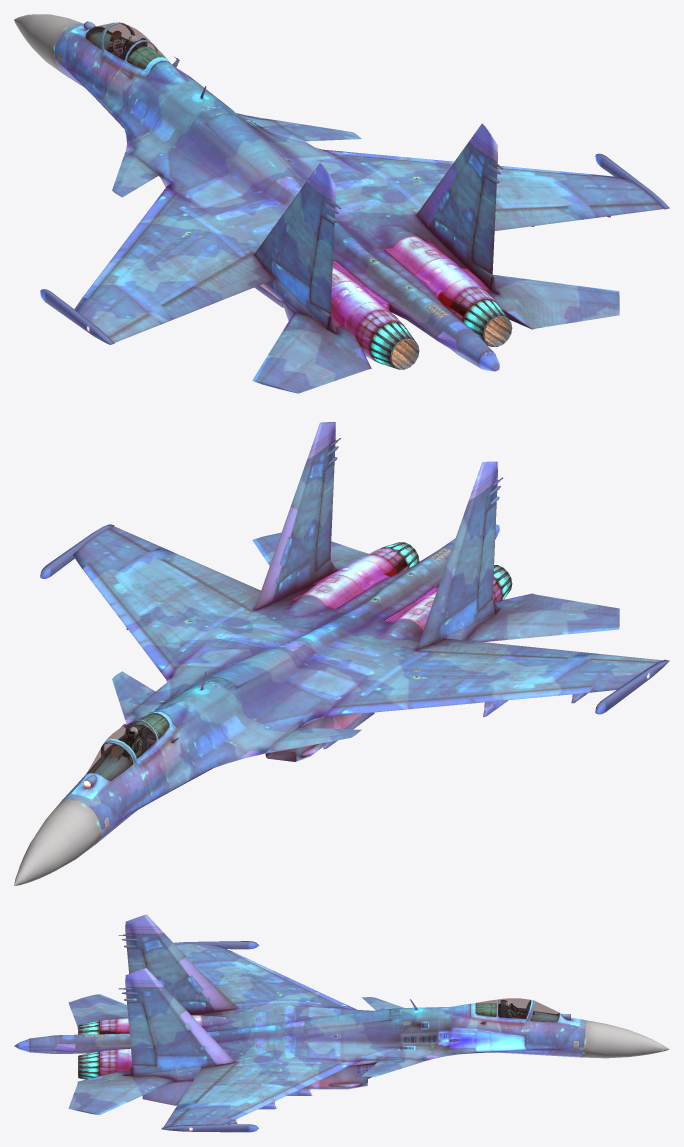
The picture shows the model from 3 angles, top to bottom: view 1: azimuth 30°, elevation 25°; view 2: azimuth 150°, elevation 25°; view 3: azimuth 270°, elevation 25°; orthographic projection. The views are drawn at different scales.
Visible parts, largest first — view 1: SU-37_LOD0, SU-37_ElevatorL01, SU-37_ElevatorR01, SU-37_FlapL01, SU-37_BrakeL01, SU-37_Glass01, SU-37_EngineL01, SU-37_RudderR01, SU-37_RudderL01, SU-37_VoletL01, SU-37_EngineR01, SU-37_FlapR01 (+6 smaller); view 2: SU-37_LOD0, SU-37_ElevatorL01, SU-37_VoletL01, SU-37_Glass01, SU-37_VoletR01, SU-37_FlapR01, SU-37_FlapL01, SU-37_BrakeL01, SU-37_RudderL01, SU-37_RudderR01, SU-37_CanardL01, SU-37_Canopy01 (+2 smaller); view 3: SU-37_LOD0, SU-37_ElevatorR01, SU-37_RudderR01, SU-37_Glass01, SU-37_ElevatorL01, SU-37_VoletR01, SU-37_FlapR01, SU-37_BrakeL01, SU-37_Canopy01, SU-37_VoletL01, SU-37_CanardR01, SU-37_EngineR01 (+1 smaller).
Part boxes in pixels (bbox=[...]): SU-37_LOD0: bbox=[14, 14, 669, 371]; SU-37_ElevatorL01: bbox=[252, 312, 371, 393]; SU-37_ElevatorR01: bbox=[486, 274, 619, 329]; SU-37_FlapL01: bbox=[161, 253, 275, 318]; SU-37_BrakeL01: bbox=[201, 108, 294, 182]; SU-37_Glass01: bbox=[85, 23, 167, 69]; SU-37_EngineL01: bbox=[369, 321, 419, 369]; SU-37_RudderR01: bbox=[472, 175, 496, 274]; SU-37_RudderL01: bbox=[310, 215, 334, 314]; SU-37_VoletL01: bbox=[82, 188, 179, 299]; SU-37_EngineR01: bbox=[462, 299, 512, 346]; SU-37_FlapR01: bbox=[416, 206, 581, 230]; SU-37_LOD0: bbox=[14, 422, 669, 885]; SU-37_ElevatorL01: bbox=[466, 593, 619, 642]; SU-37_VoletL01: bbox=[322, 683, 596, 717]; SU-37_Glass01: bbox=[86, 713, 169, 780]; SU-37_VoletR01: bbox=[82, 561, 179, 678]; SU-37_FlapR01: bbox=[161, 553, 260, 611]; SU-37_FlapL01: bbox=[416, 638, 581, 658]; SU-37_BrakeL01: bbox=[201, 647, 294, 688]; SU-37_RudderL01: bbox=[477, 501, 496, 611]; SU-37_RudderR01: bbox=[315, 462, 334, 572]; SU-37_CanardL01: bbox=[265, 727, 361, 753]; SU-37_Canopy01: bbox=[103, 711, 174, 766]; SU-37_LOD0: bbox=[14, 914, 669, 1132]; SU-37_ElevatorR01: bbox=[68, 1067, 176, 1114]; SU-37_RudderR01: bbox=[127, 1001, 156, 1066]; SU-37_Glass01: bbox=[476, 998, 559, 1021]; SU-37_ElevatorL01: bbox=[68, 994, 128, 1028]; SU-37_VoletR01: bbox=[225, 1059, 358, 1119]; SU-37_FlapR01: bbox=[178, 1062, 237, 1104]; SU-37_BrakeL01: bbox=[305, 1008, 399, 1028]; SU-37_Canopy01: bbox=[471, 999, 533, 1024]; SU-37_VoletL01: bbox=[225, 950, 357, 1009]; SU-37_CanardR01: bbox=[362, 1058, 424, 1076]; SU-37_EngineR01: bbox=[78, 1051, 99, 1079].
Bounding box in the file's own units: 1427 × 502 × 2141.
